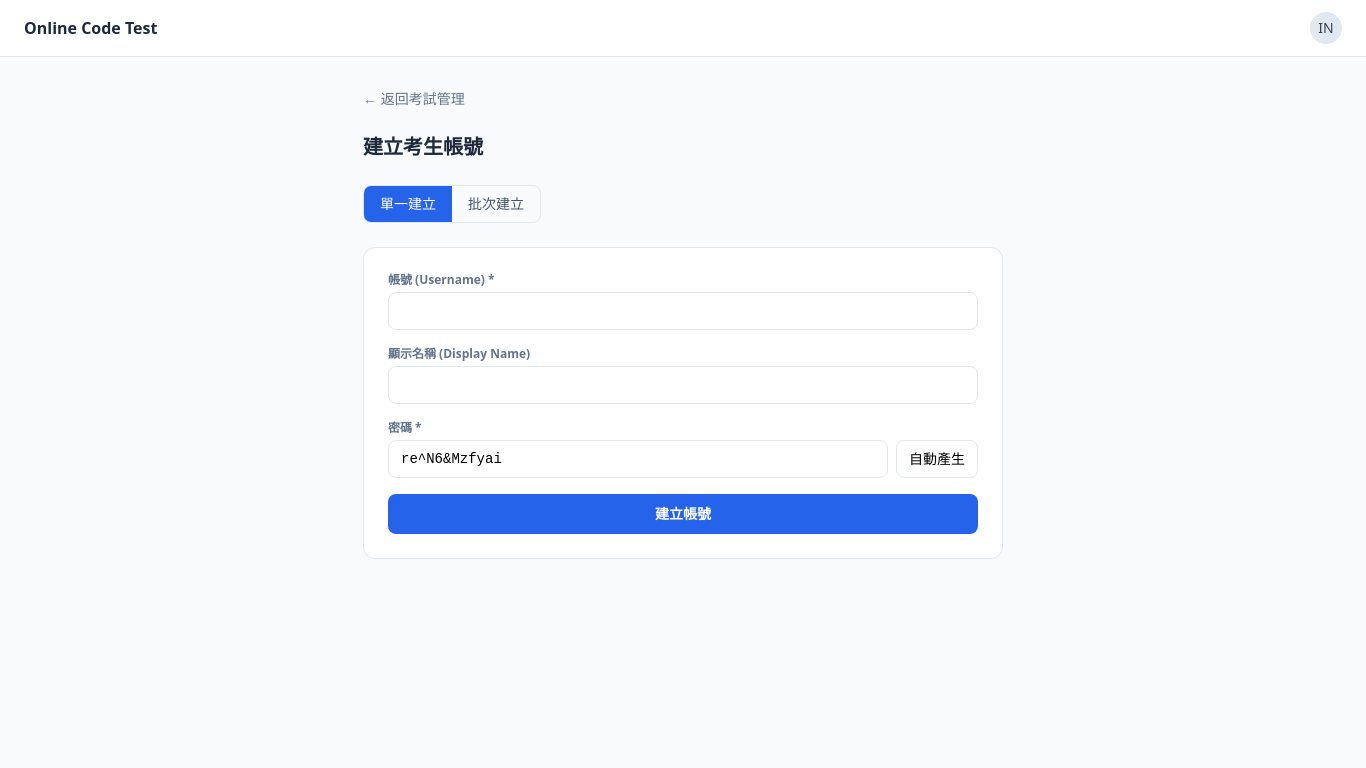
Test: CandidateCreatePage() › shows error when submitting with empty username
Click the button "建立帳號" at (683, 514), box 388,494 -> 978,534
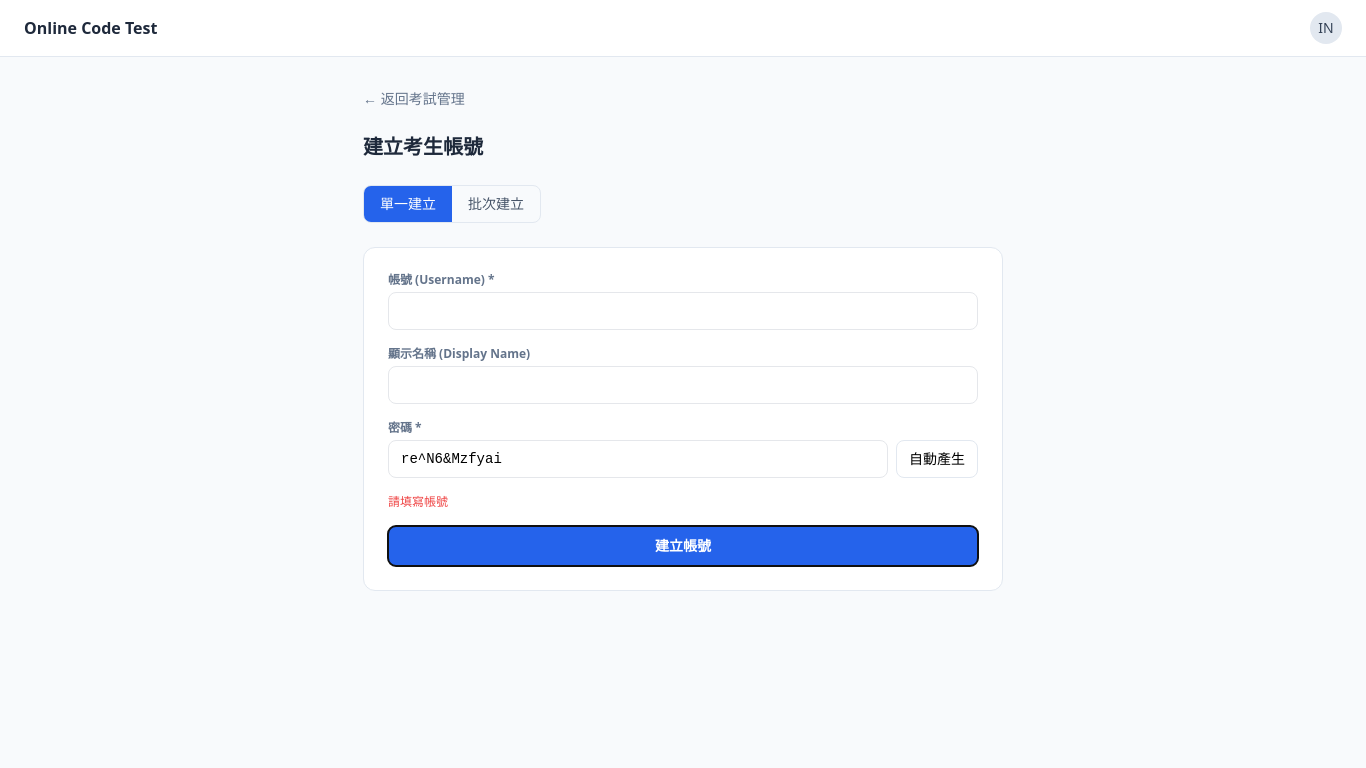
Expected: the text "請填寫帳號" is shown, 388,493 -> 448,510
